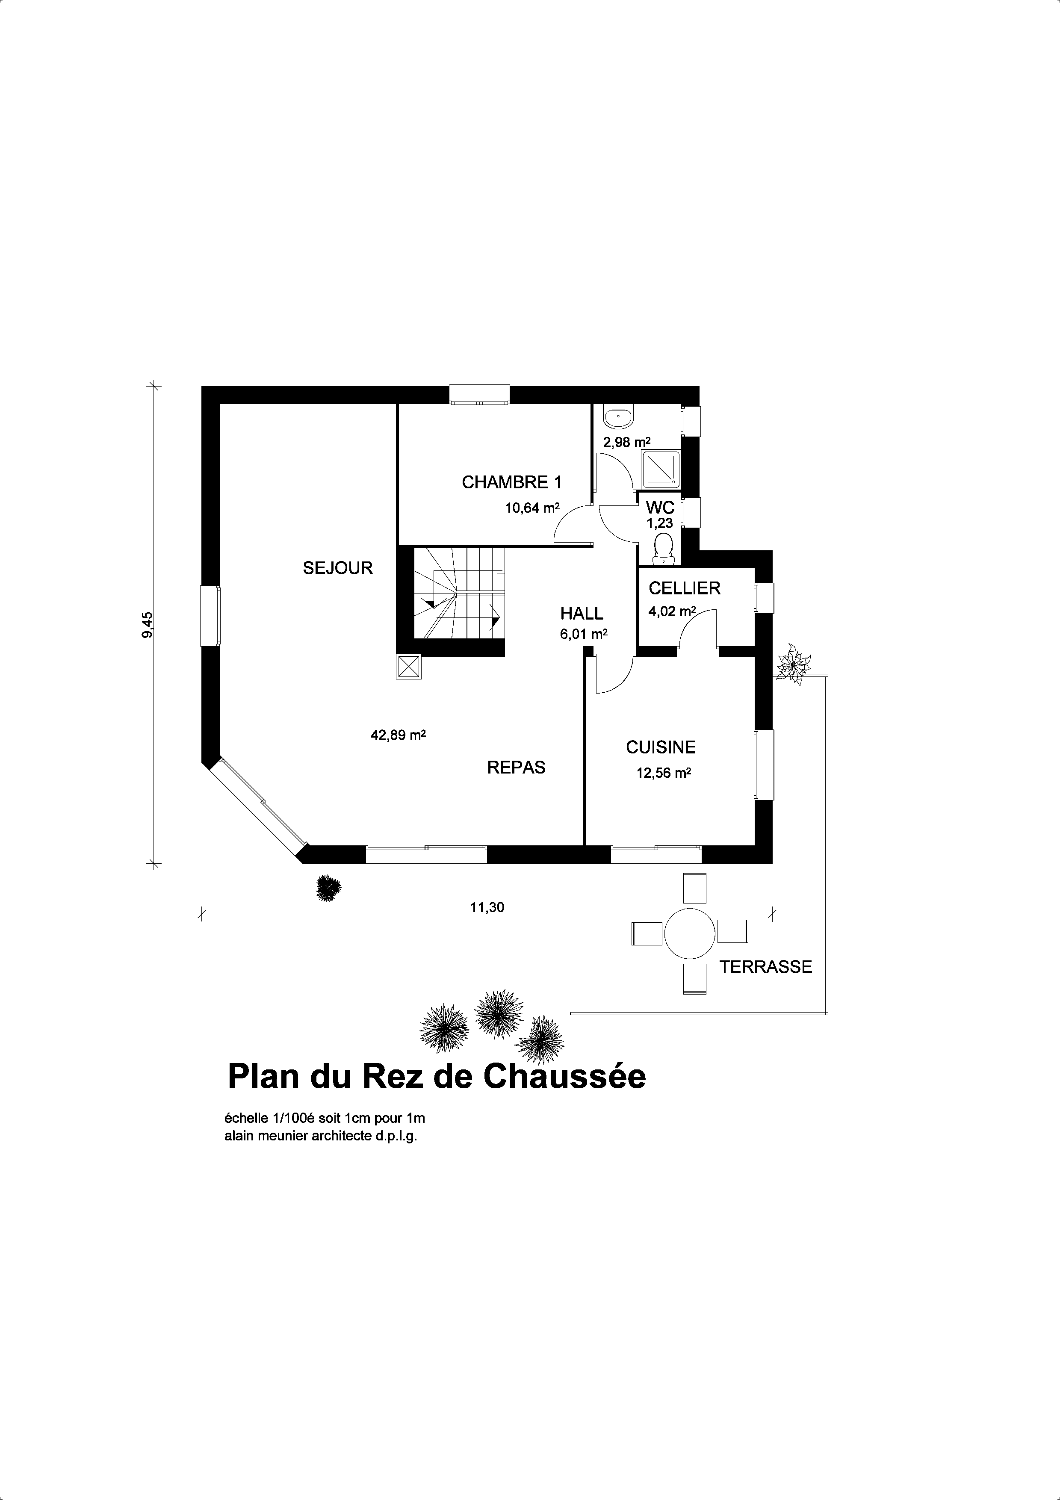ceramic sink: (602, 404, 634, 430)
door: (553, 502, 594, 546), (593, 453, 636, 494), (593, 653, 636, 694), (676, 609, 719, 649), (599, 503, 639, 546)
sliding door: (205, 753, 310, 858), (364, 844, 488, 865), (608, 843, 706, 864)
square bath tab: (641, 450, 681, 491)
toilet: (652, 533, 675, 565)
window: (200, 585, 223, 647), (449, 383, 510, 405)
